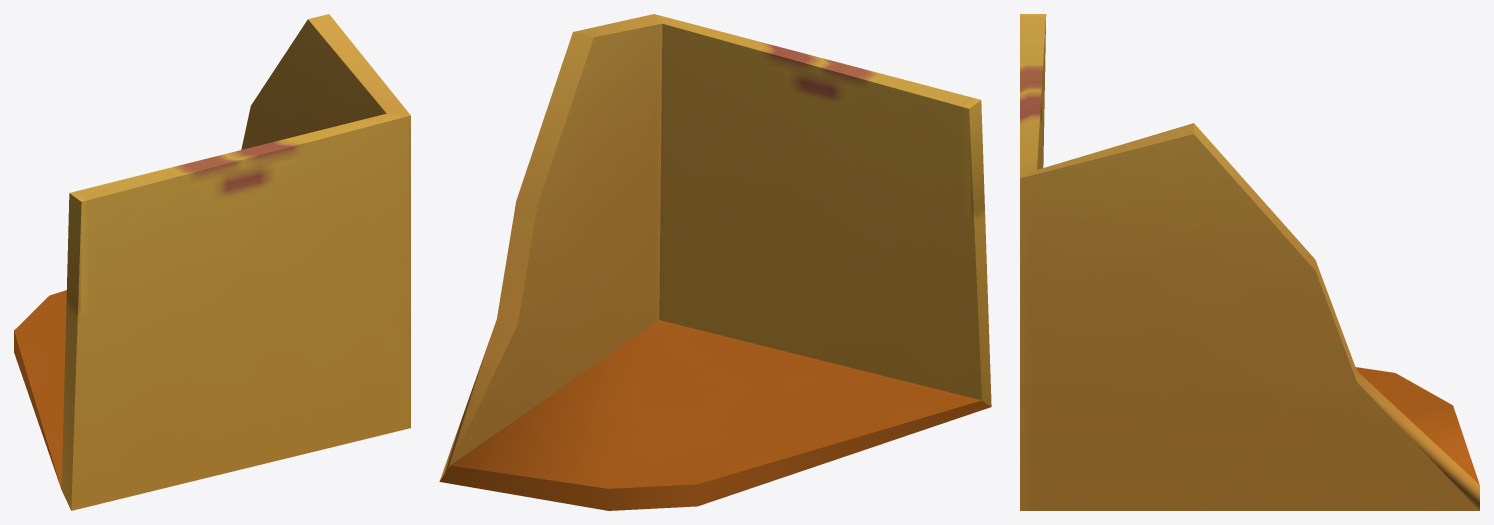
Rendered from B8Broke04.FBX.
3 views of the same model, side by side, from view 1: azimuth 30°, elevation 25°; view 2: azimuth 150°, elevation 25°; view 3: azimuth 270°, elevation 25° (orthographic). The views are drawn at different scales.
Visible parts, largest first — view 1: B8Broke04; view 2: B8Broke04; view 3: B8Broke04.
Boxes of the visible parts, x1,y1,x2,y2 form: B8Broke04: [14, 14, 410, 510]; B8Broke04: [439, 14, 991, 510]; B8Broke04: [1020, 14, 1479, 510].
Bounding box in the file's own units: 32.13 × 32.04 × 35.42.
